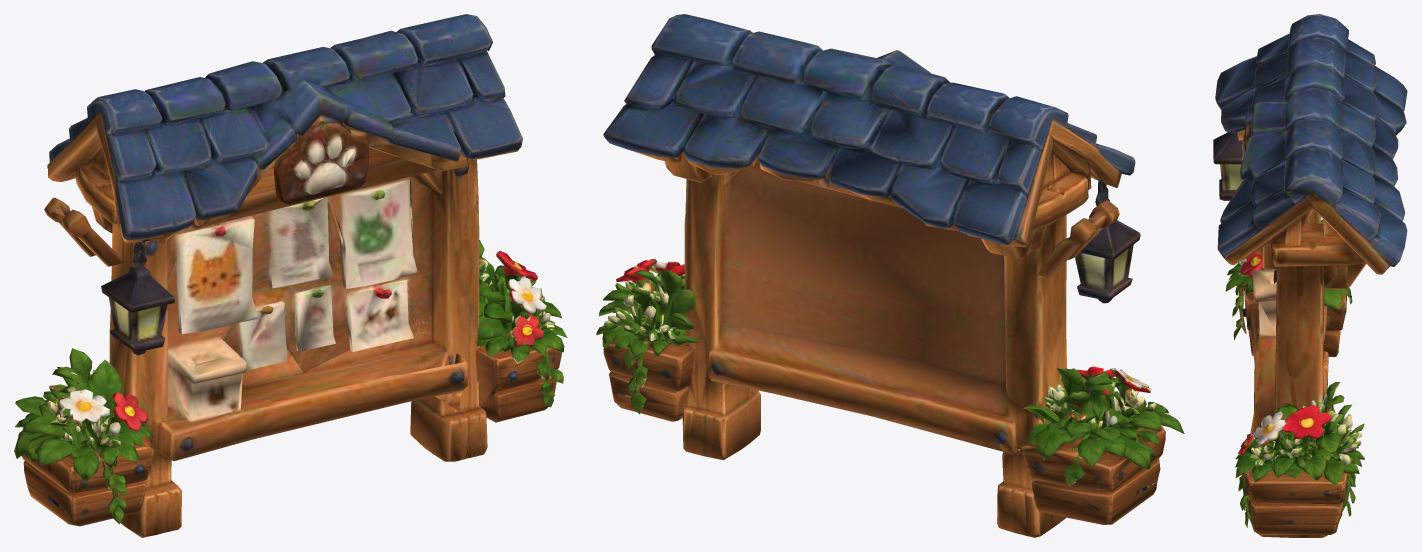
File: village_notice_board.glb
3 renders of one model, left to right at view 1: azimuth 30°, elevation 25°; view 2: azimuth 150°, elevation 25°; view 3: azimuth 270°, elevation 25°, orthographic. The views are drawn at different scales.
Visible parts, largest first — view 1: village_notice_board; view 2: village_notice_board; view 3: village_notice_board.
Part boxes in pixels (left/top/right/bottom): village_notice_board: left=14, top=14, right=567, bottom=537; village_notice_board: left=596, top=14, right=1184, bottom=537; village_notice_board: left=1213, top=14, right=1407, bottom=537.
Bounding box in the file's own units: 2.16 × 1.6 × 0.7548.
Materials: 1 (1 with a texture image).
